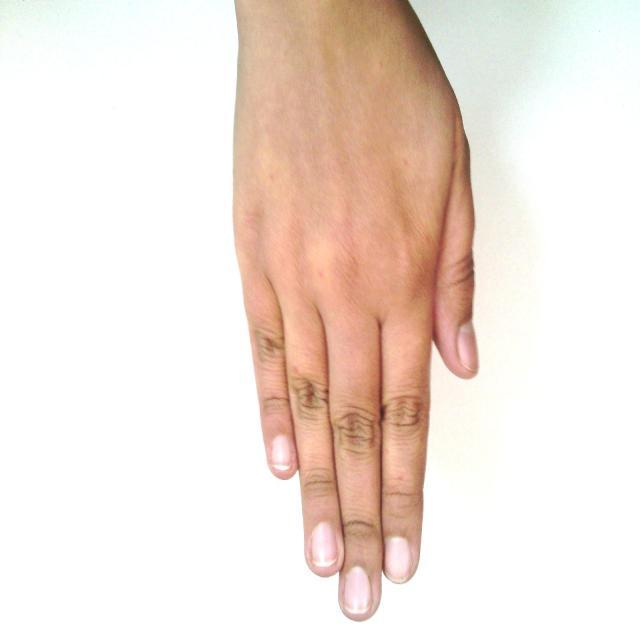Fingernail: (310, 522, 339, 567), (344, 567, 371, 615), (385, 537, 412, 582), (459, 325, 478, 370), (272, 435, 292, 469)
